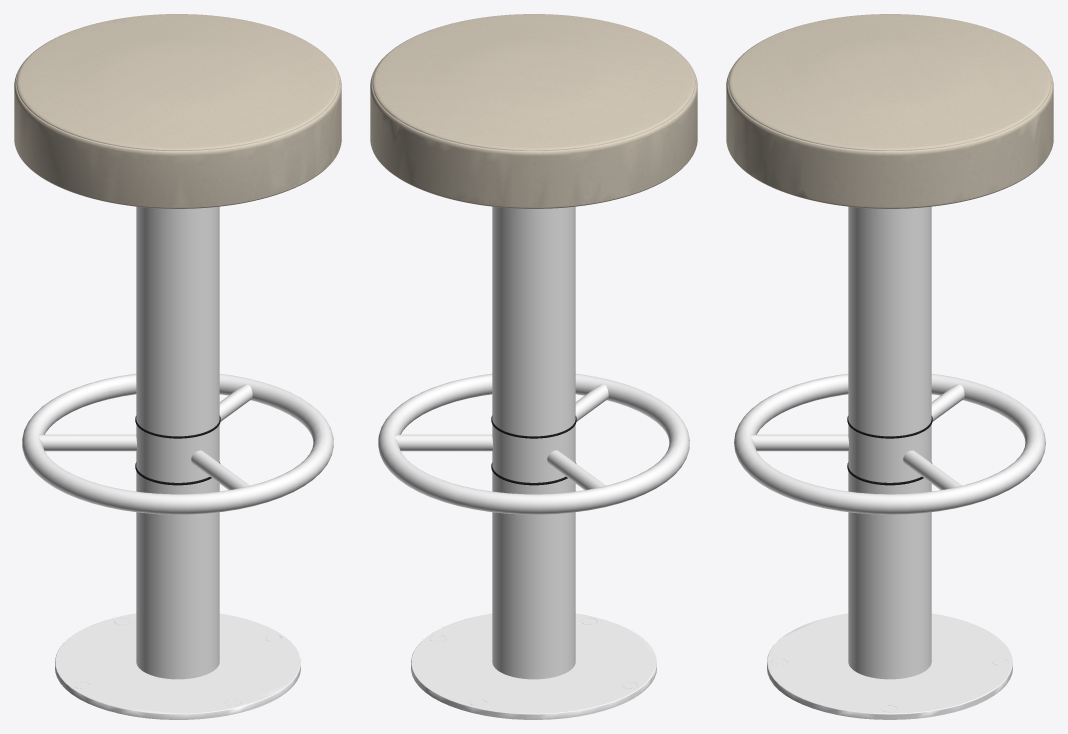
The model's file is c114-clun-284.glb.
3 renders of one model, left to right at view 1: azimuth 30°, elevation 25°; view 2: azimuth 150°, elevation 25°; view 3: azimuth 270°, elevation 25°, orthographic.
Parts seen in each view (by area): view 1: c114-base-piastra, c114-seduta-acciaio, c114-tubo-boccola-alta; view 2: c114-base-piastra, c114-seduta-acciaio, c114-tubo-boccola-alta; view 3: c114-base-piastra, c114-seduta-acciaio, c114-tubo-boccola-alta.
Part boxes in pixels (box(x1,y1,x2,y2)): c114-base-piastra: box(22, 206, 333, 719); c114-seduta-acciaio: box(14, 14, 341, 208); c114-tubo-boccola-alta: box(135, 415, 220, 485); c114-base-piastra: box(378, 206, 689, 719); c114-seduta-acciaio: box(370, 14, 697, 208); c114-tubo-boccola-alta: box(491, 415, 576, 485); c114-base-piastra: box(734, 206, 1045, 719); c114-seduta-acciaio: box(726, 14, 1053, 208); c114-tubo-boccola-alta: box(847, 416, 932, 485).
Bounding box in the file's own units: 0.3991 × 0.8009 × 0.3991.
Materials: 4 (1 with a texture image).
